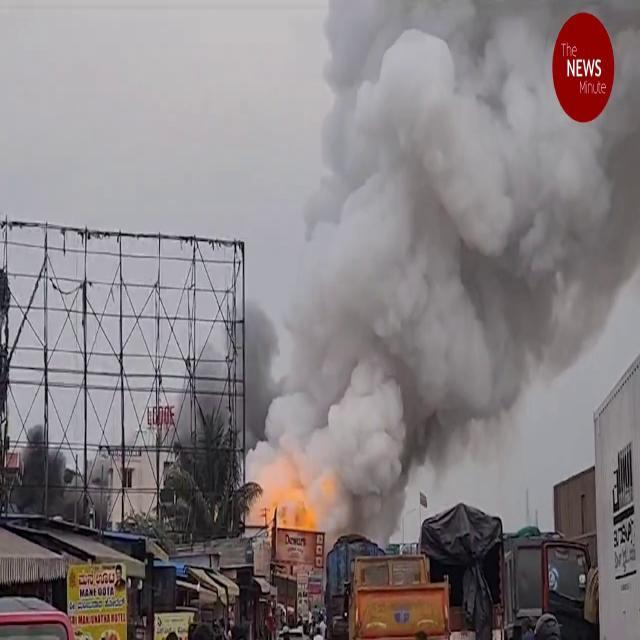Smoke: (245, 0, 635, 500)
